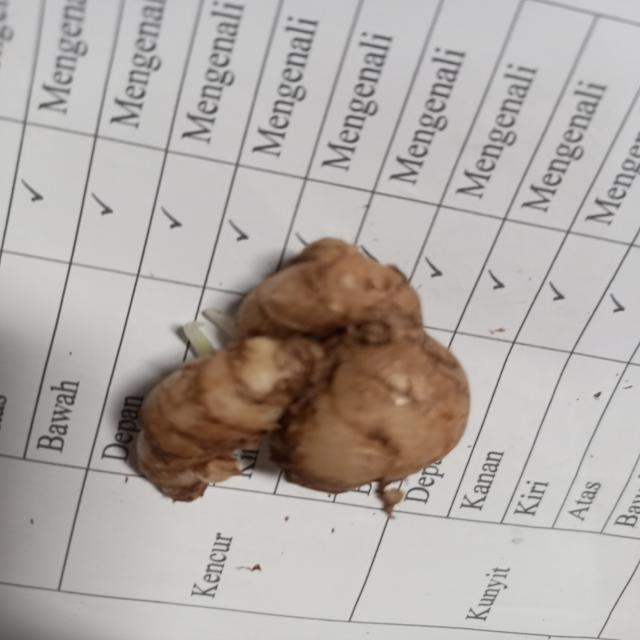ginger: (137, 239, 470, 492)
